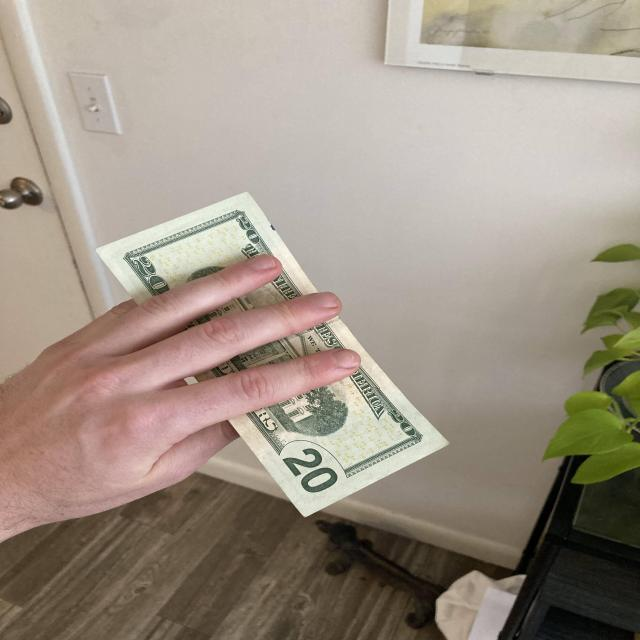twenty: (89, 150, 452, 546)
